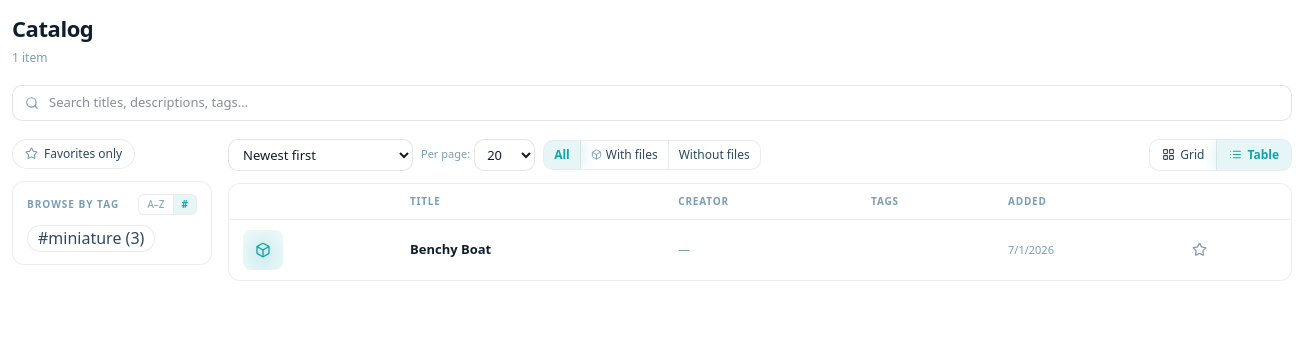
CatalogPage › activates a tag filter when a tag-cloud pill is clicked
Tag pill appears in the cloud.
Click the button "#miniature (3)".
click(91, 238)  # box [27, 224, 155, 252]
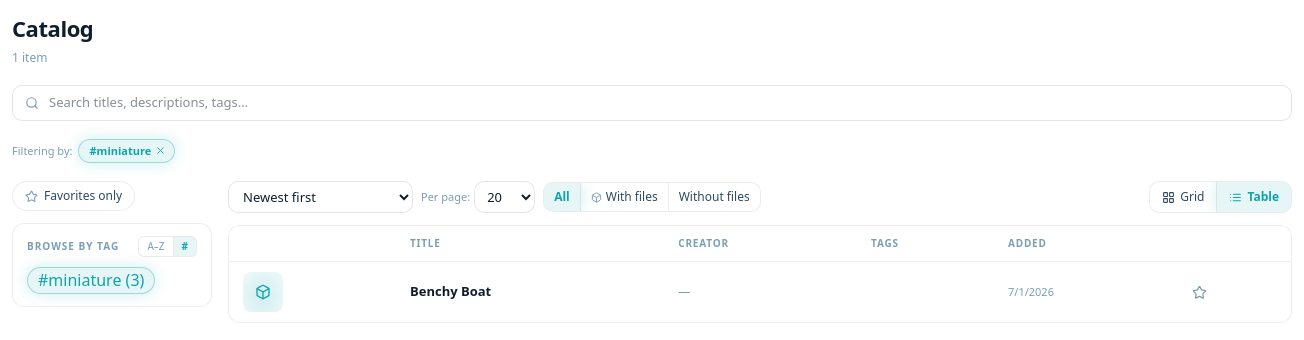
expect the text "Filtering by:" is shown: met, box [12, 142, 72, 159]
